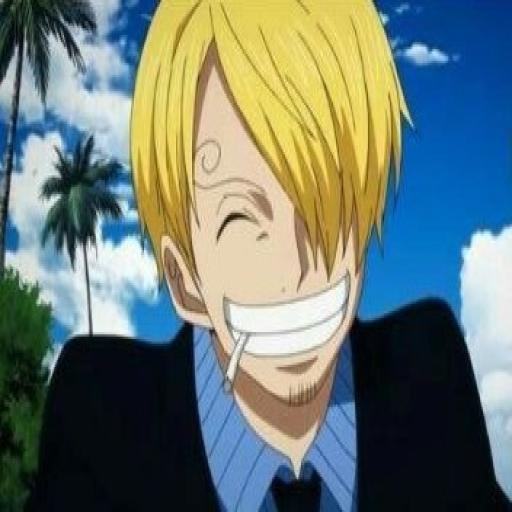sanji: (36, 2, 506, 512)
